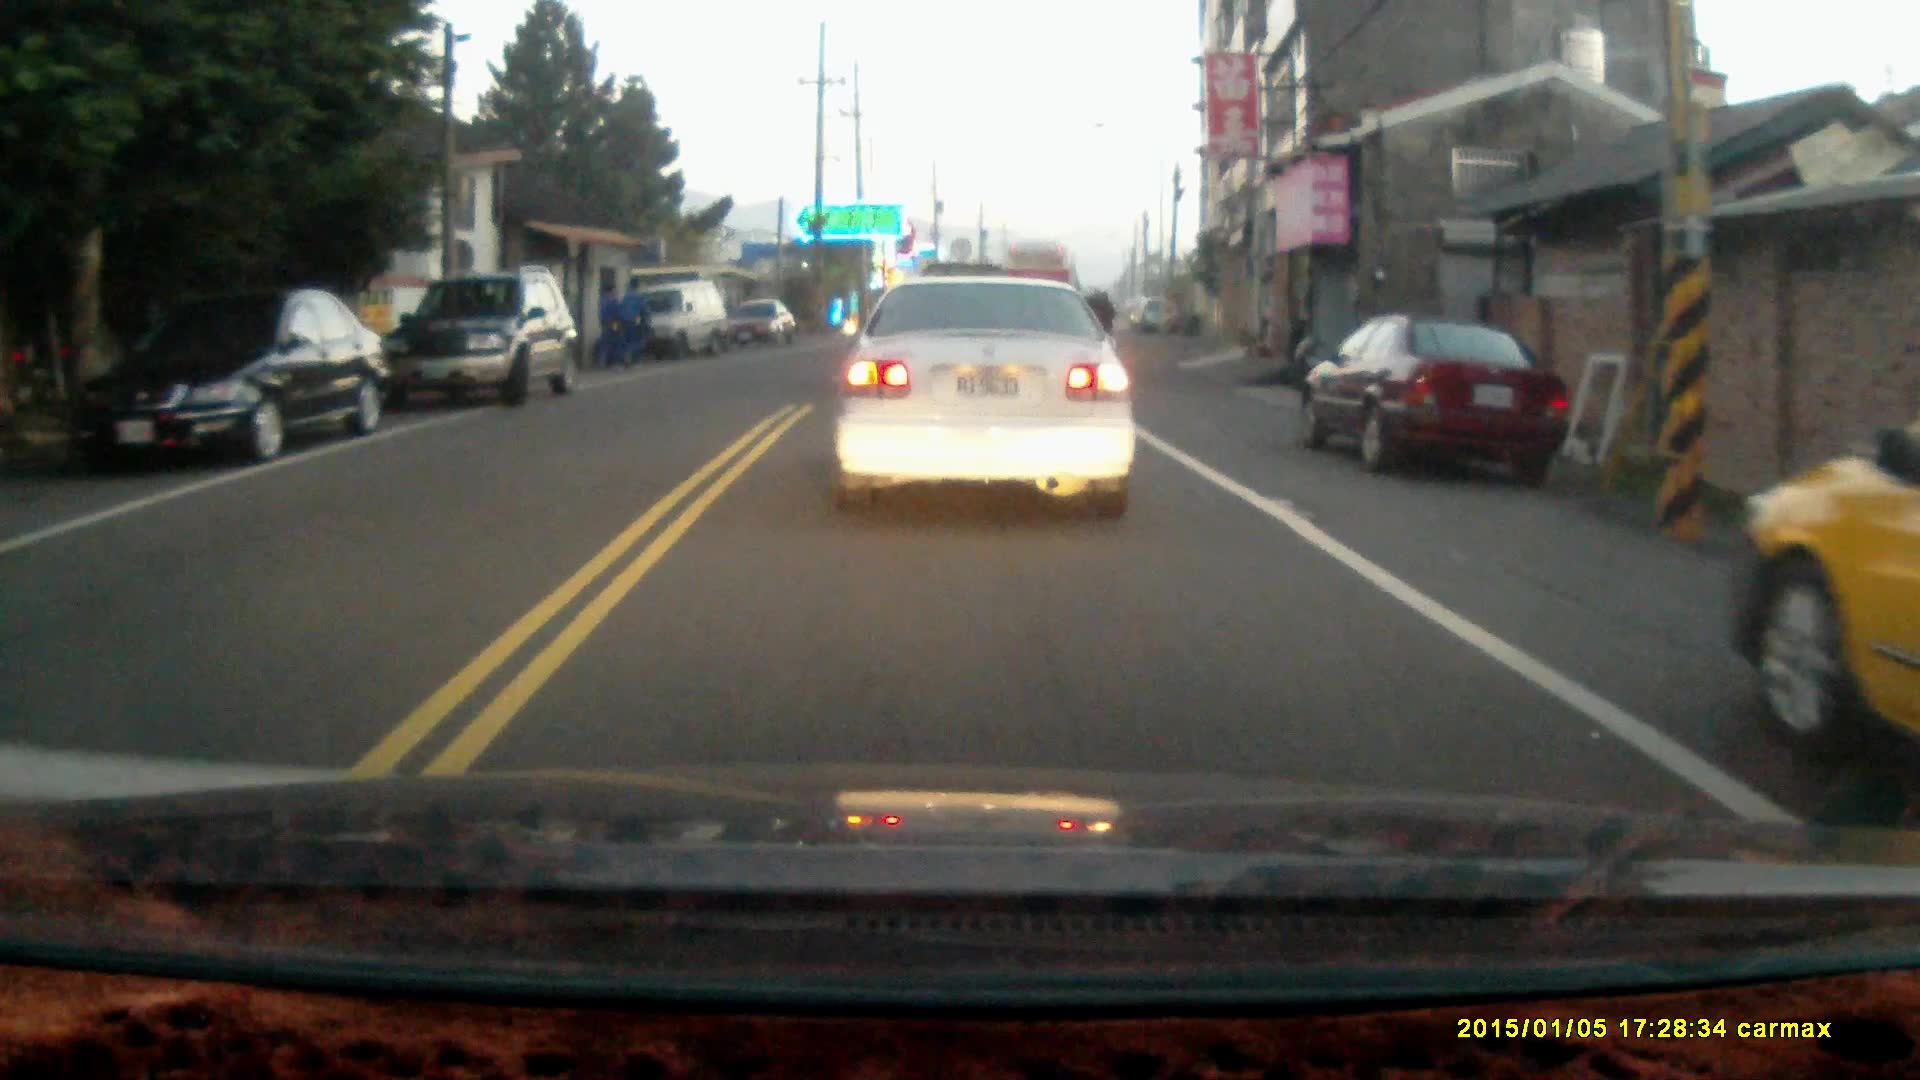pedestrian: (594, 278, 624, 370), (618, 272, 648, 367)
vehicle: (833, 272, 1143, 519), (1741, 391, 1920, 764), (76, 288, 388, 464), (1302, 312, 1573, 485), (383, 268, 579, 409), (623, 284, 738, 365), (713, 299, 798, 360)
